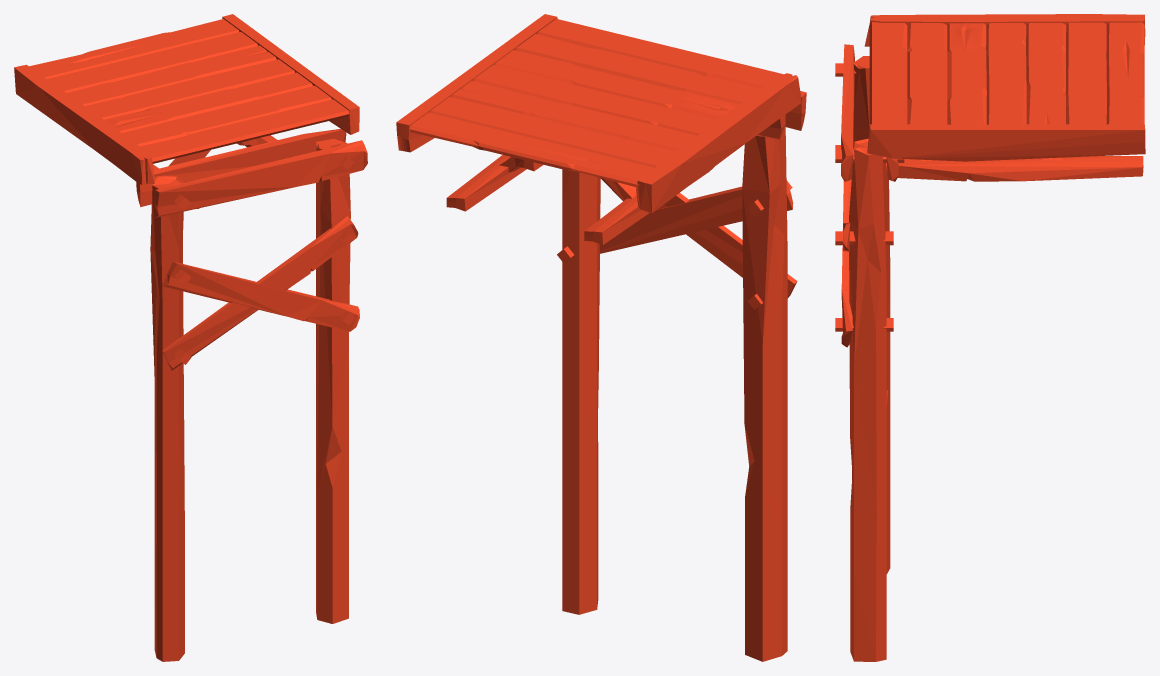
File: SM_Pier_Short_City.fbx
3 renders of one model, left to right at view 1: azimuth 30°, elevation 25°; view 2: azimuth 150°, elevation 25°; view 3: azimuth 270°, elevation 25°, orthographic. The views are drawn at different scales.
Parts seen in each view (by area): view 1: SM_Pier_Short_City; view 2: SM_Pier_Short_City; view 3: SM_Pier_Short_City.
Boxes of the visible parts, bbox=[...] form: SM_Pier_Short_City: bbox=[14, 14, 367, 661]; SM_Pier_Short_City: bbox=[396, 14, 806, 661]; SM_Pier_Short_City: bbox=[835, 14, 1145, 661].
Size of the model in its own units: 3 by 6.53 by 3.39.
